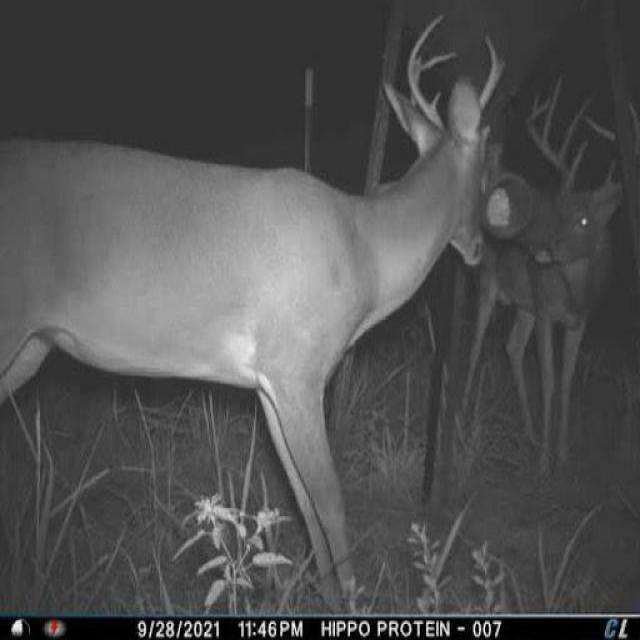deer: (2, 11, 516, 610), (462, 49, 640, 488)
